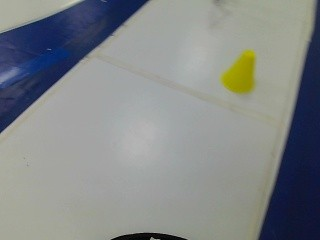cone: (215, 47, 267, 99)
